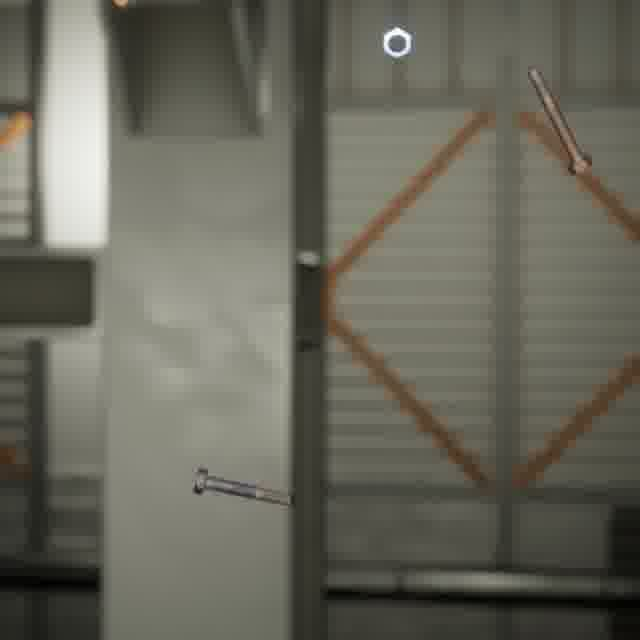bolt: (521, 61, 597, 178), (188, 462, 296, 510)
nut: (378, 20, 416, 64)
